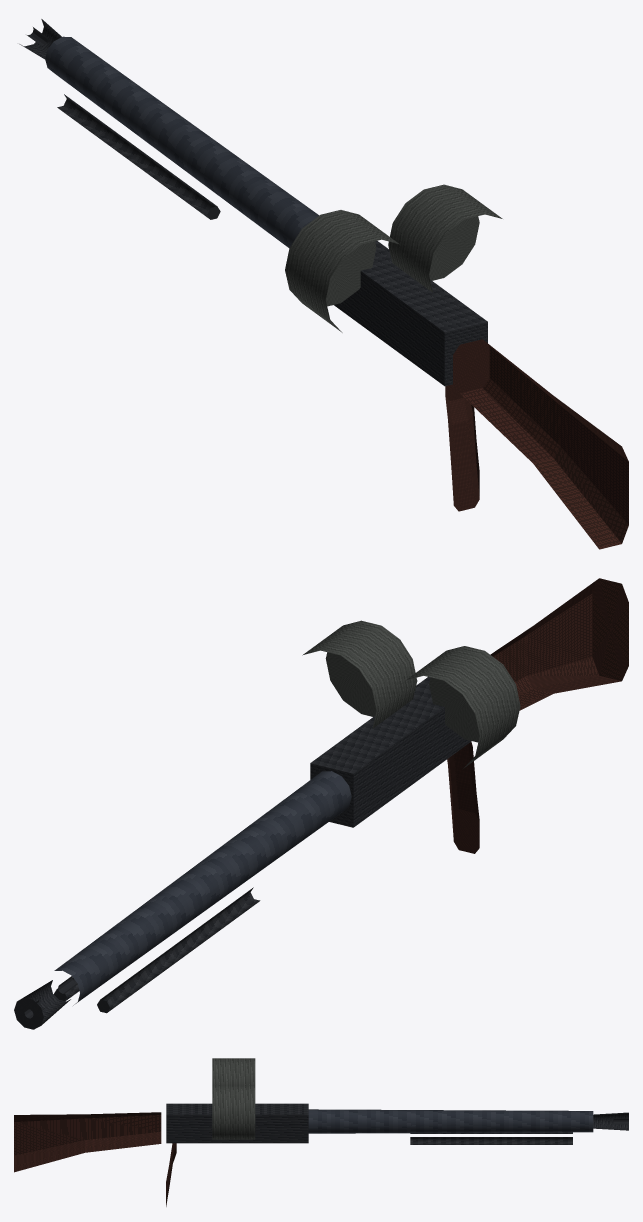
3 renders of one model, top to bottom at view 1: azimuth 30°, elevation 25°; view 2: azimuth 150°, elevation 25°; view 3: azimuth 270°, elevation 25°, orthographic. The views are drawn at different scales.
Visible parts, largest first — view 1: WeaponMesh; view 2: WeaponMesh; view 3: WeaponMesh.
Part boxes in pixels (box(x1,y1,x2,y2)): WeaponMesh: box(19, 19, 628, 549); WeaponMesh: box(14, 578, 628, 1029); WeaponMesh: box(14, 1058, 628, 1206).
Size of the model in its own units: 0.234 by 0.2849 by 1.21.
4 materials, 4 textured.
